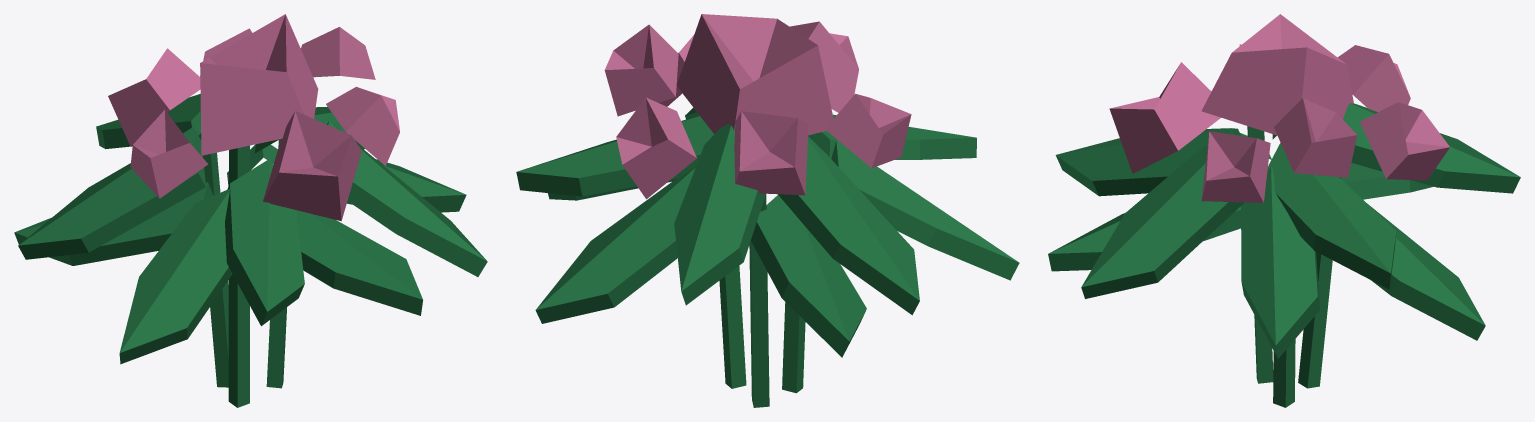
Rendered from SM_Env_Flowers_01-optimized.glb.
The picture shows the model from 3 angles, left to right: view 1: azimuth 30°, elevation 25°; view 2: azimuth 150°, elevation 25°; view 3: azimuth 270°, elevation 25°; orthographic projection. The views are drawn at different scales.
Visible parts, largest first — view 1: SM_Env_Flowers_01; view 2: SM_Env_Flowers_01; view 3: SM_Env_Flowers_01.
Part boxes in pixels (bbox=[...]): SM_Env_Flowers_01: bbox=[14, 14, 487, 407]; SM_Env_Flowers_01: bbox=[516, 14, 1019, 407]; SM_Env_Flowers_01: bbox=[1048, 14, 1520, 407].
Bounding box in the file's own units: 0.6588 × 0.5584 × 0.6517.
Materials: 1 (1 with a texture image).
